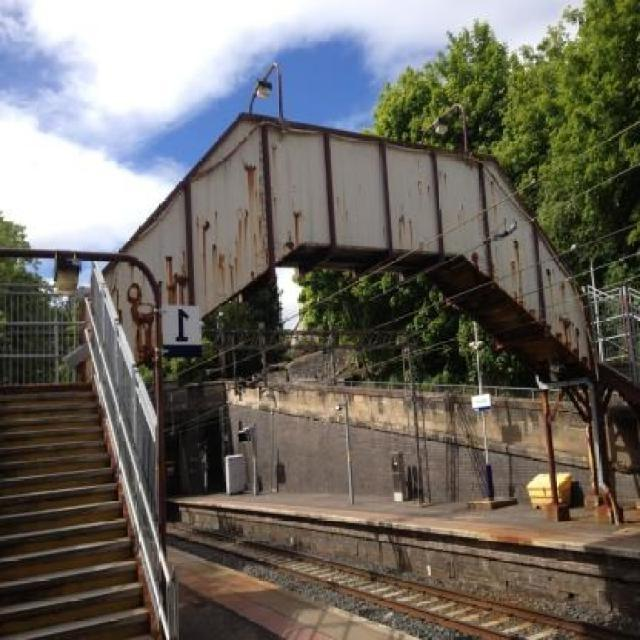stair: (0, 383, 162, 640)
